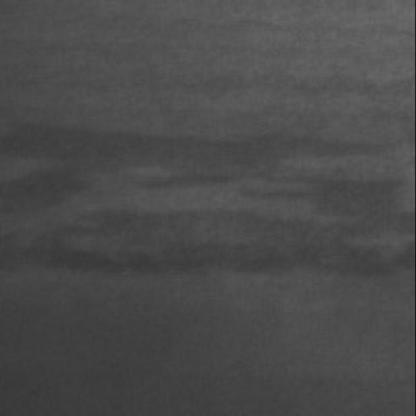inclusion: (0, 127, 414, 275)
